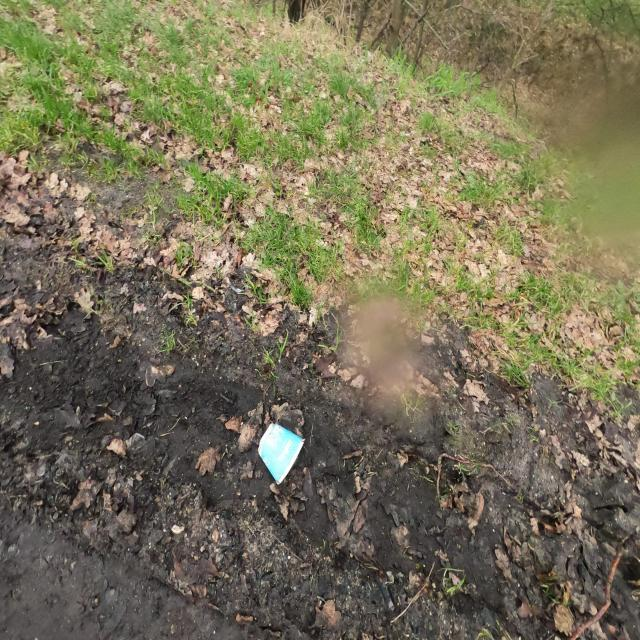Cup: (256, 422, 308, 488)
